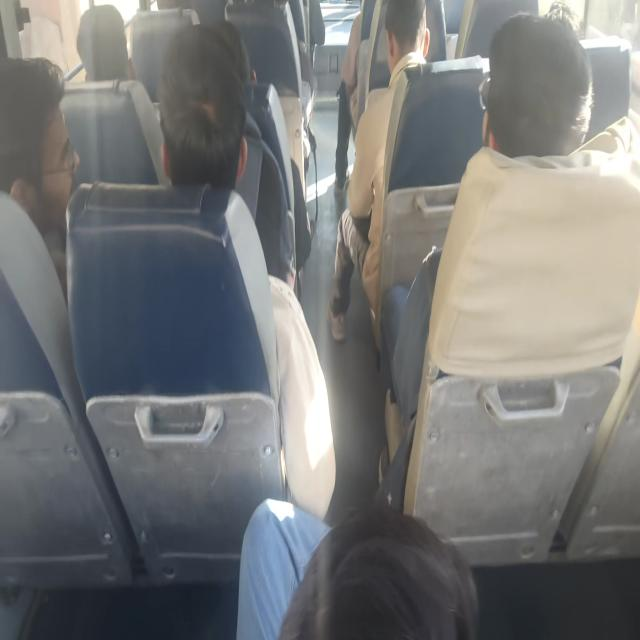person: (380, 3, 594, 432), (157, 19, 336, 522), (326, 0, 430, 349), (236, 496, 480, 638), (1, 55, 80, 305), (333, 10, 362, 196)
